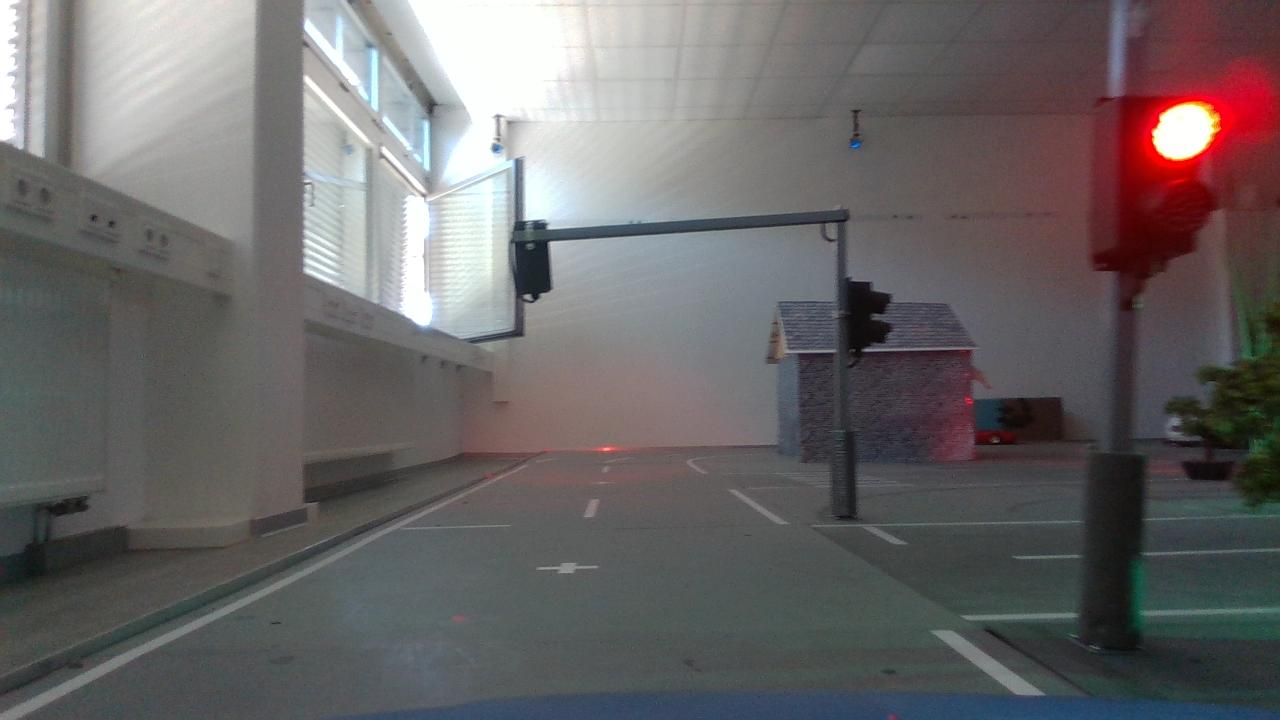traffic_light_red: (1073, 82, 1227, 290)
